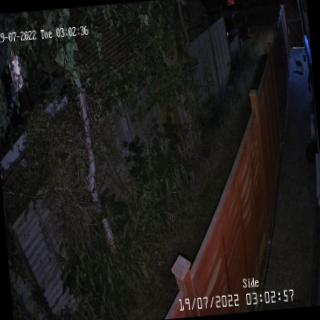car: (224, 8, 252, 48)
cat: (292, 55, 306, 76)
